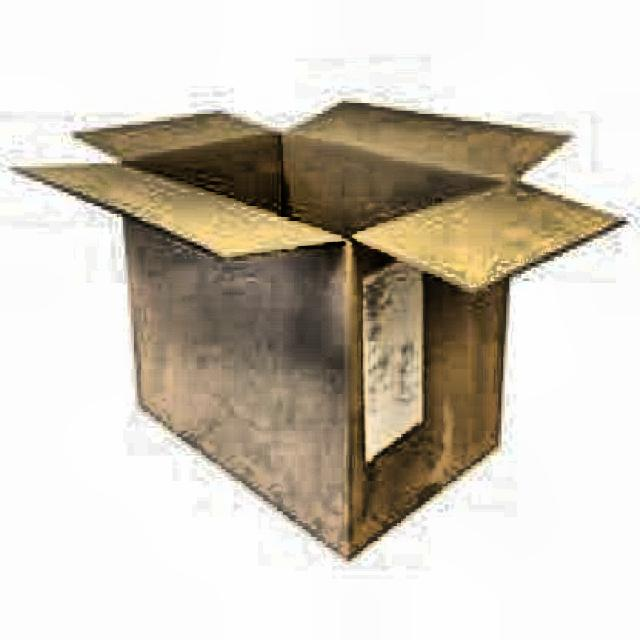Cardbox: (42, 66, 623, 576)
